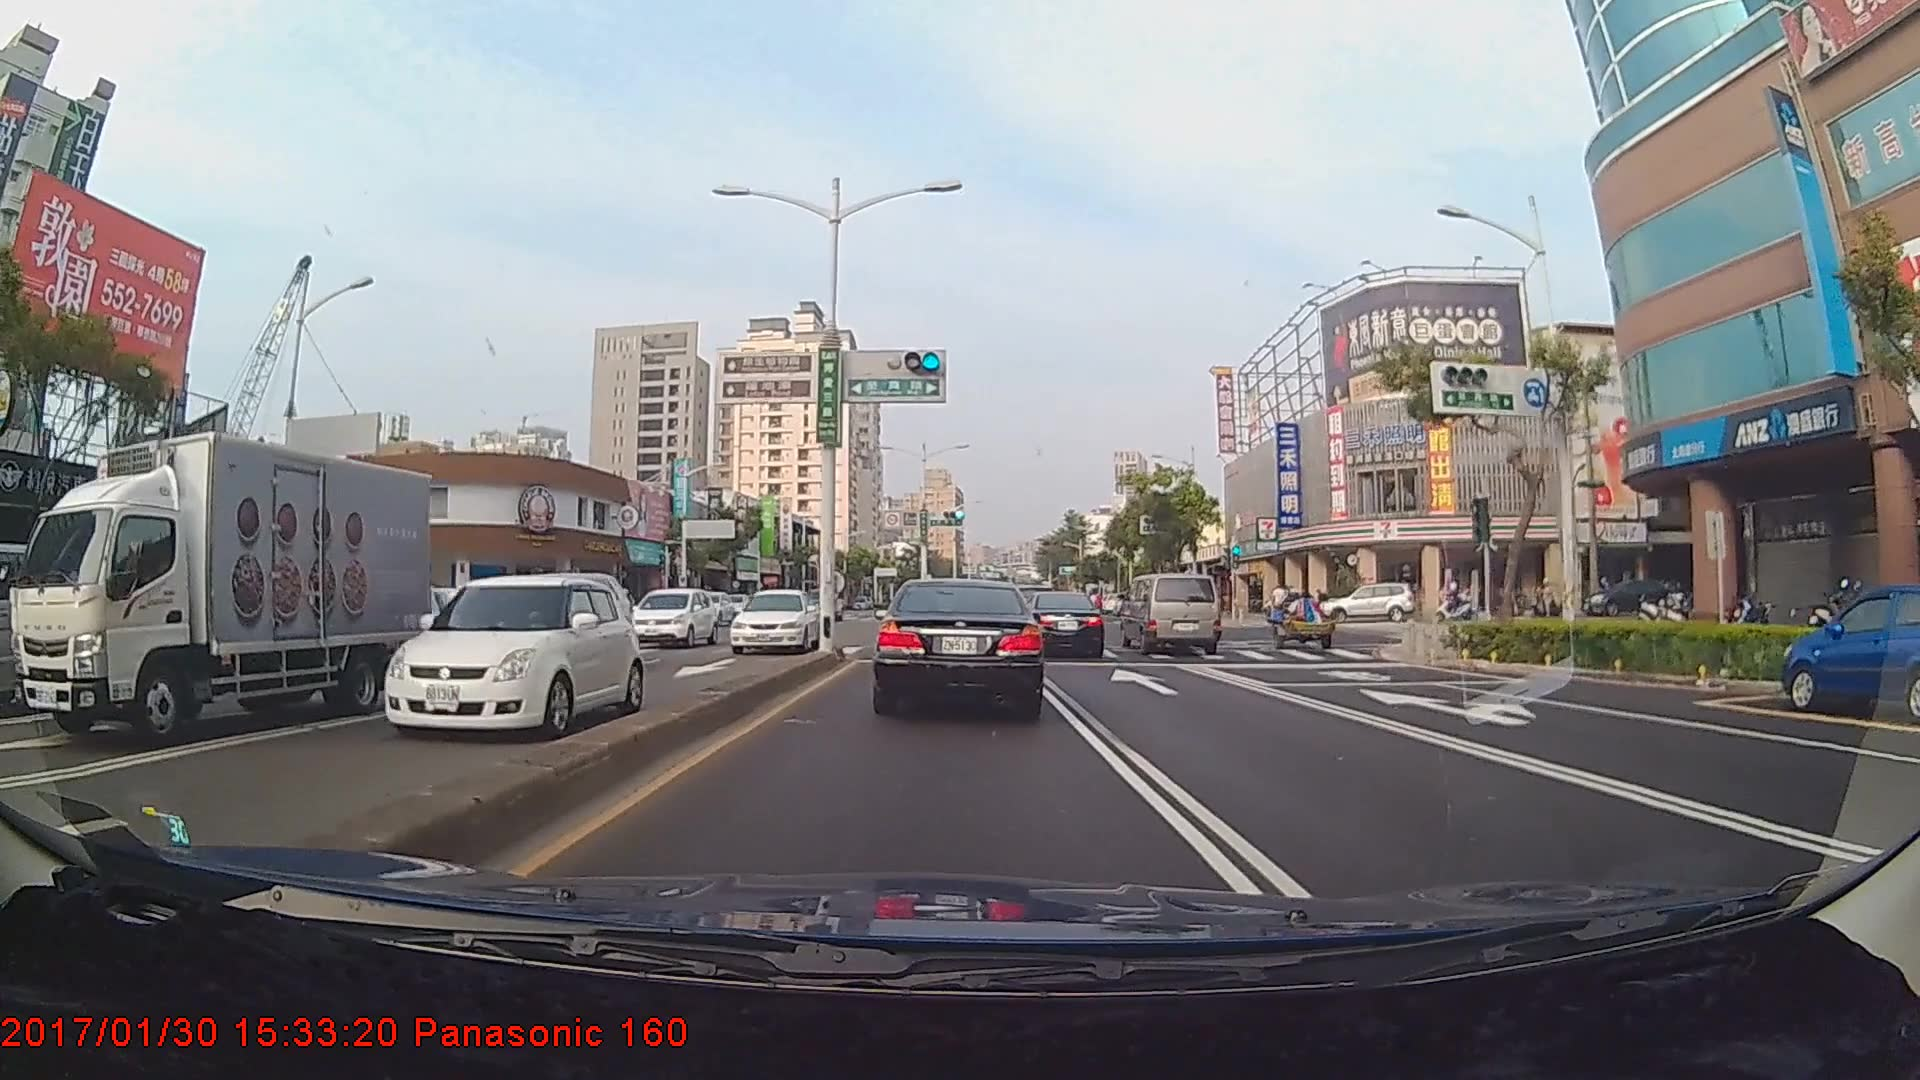vehicle: (36, 422, 426, 746), (381, 570, 646, 740), (876, 572, 1044, 716), (1785, 582, 1917, 715), (469, 566, 628, 671), (3, 541, 67, 703), (1122, 571, 1222, 658), (716, 583, 816, 654), (622, 583, 717, 649), (1021, 591, 1105, 659), (1321, 580, 1420, 625)
